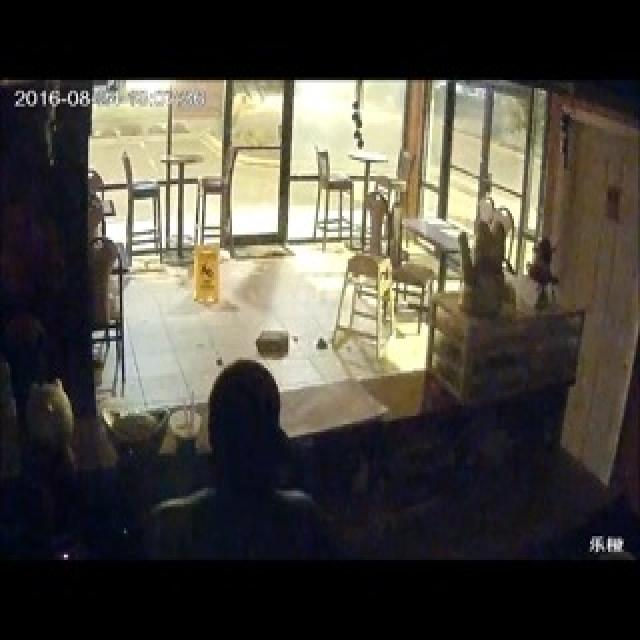thief: (192, 344, 307, 529)
